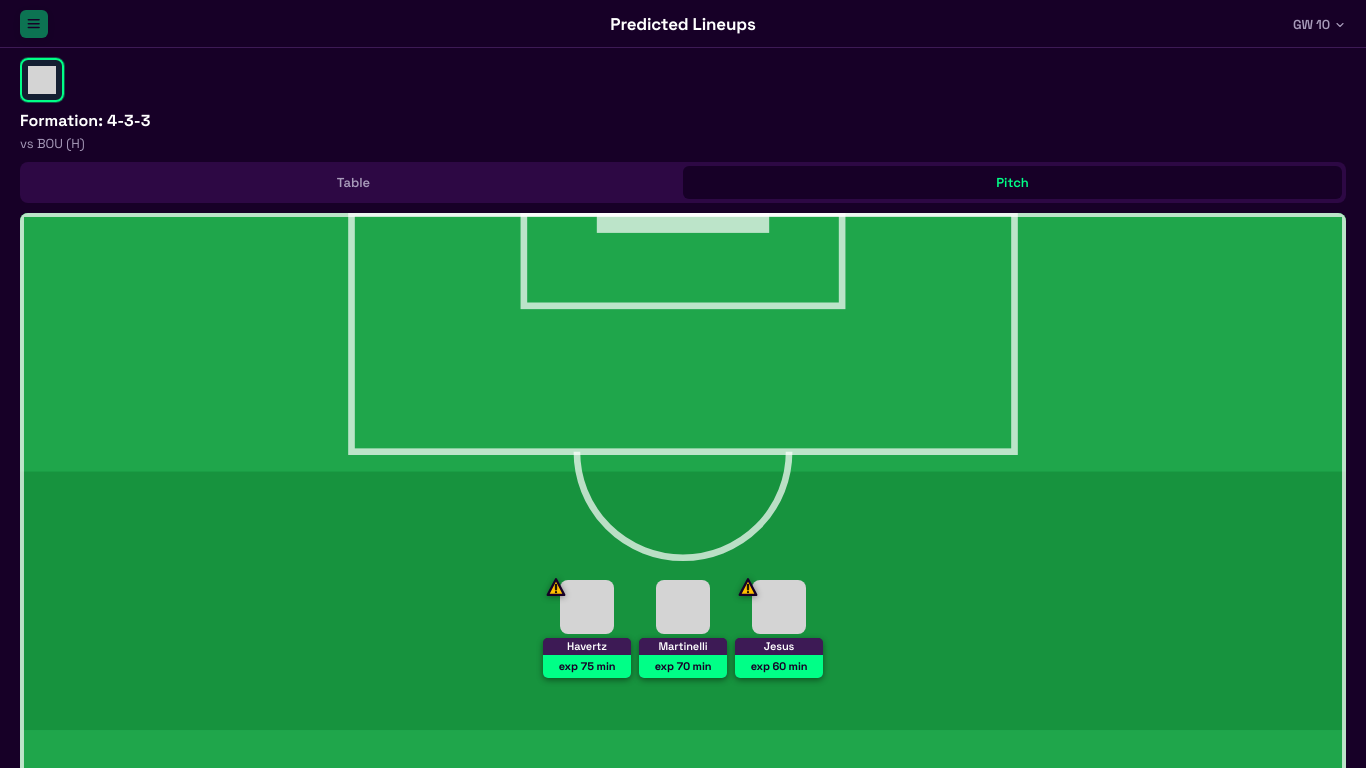
Test: PredictedLineupsScreen › highlights bench risk in table view
Click the tab "Table". click: point(354, 182)
box: top-left (24, 166), bottom-right (683, 199)
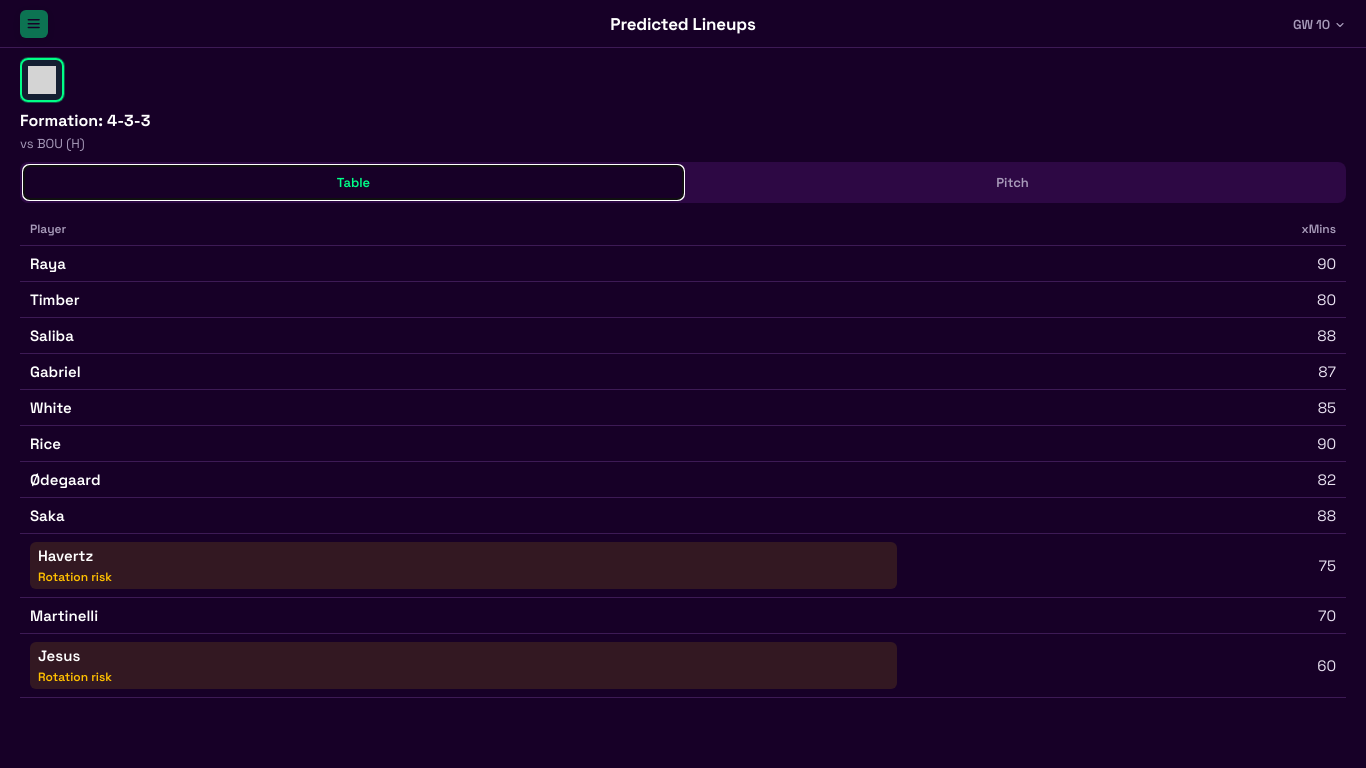
expect the text "Rotation risk" below "Havertz" is shown: met, box top-left (38, 569), bottom-right (112, 585)
